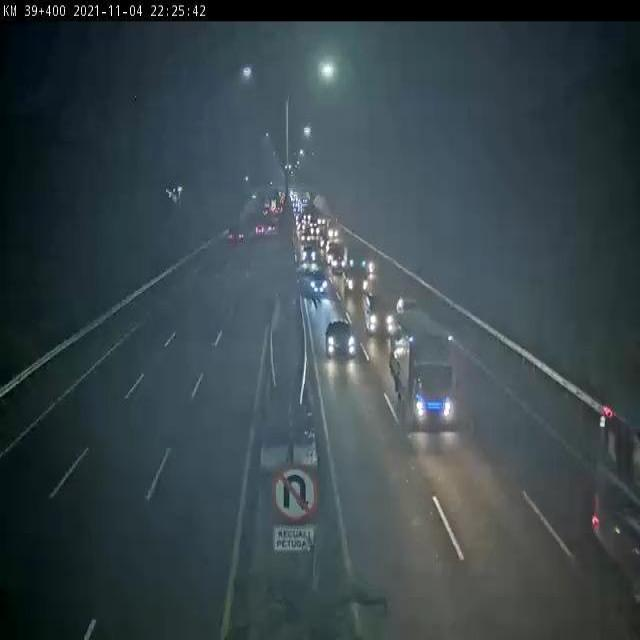car: (363, 280, 403, 337), (344, 259, 376, 305), (326, 318, 358, 358), (308, 261, 332, 299)
truck-m-: (388, 308, 457, 429)
